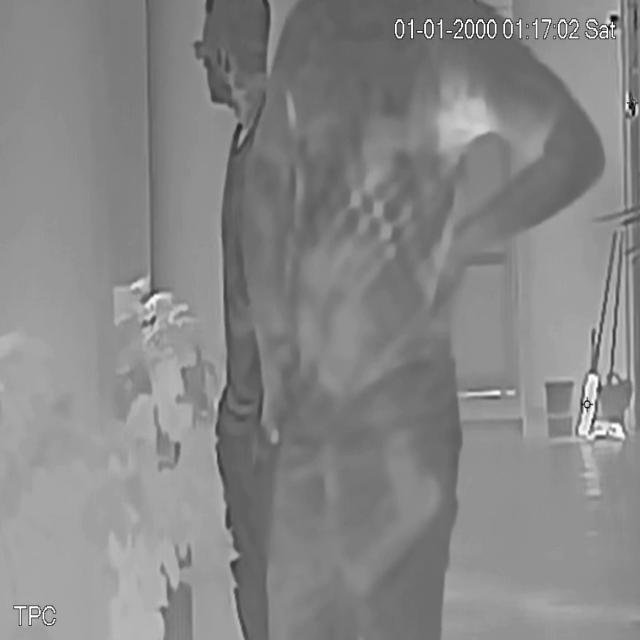Weapon: (339, 422, 442, 602)
